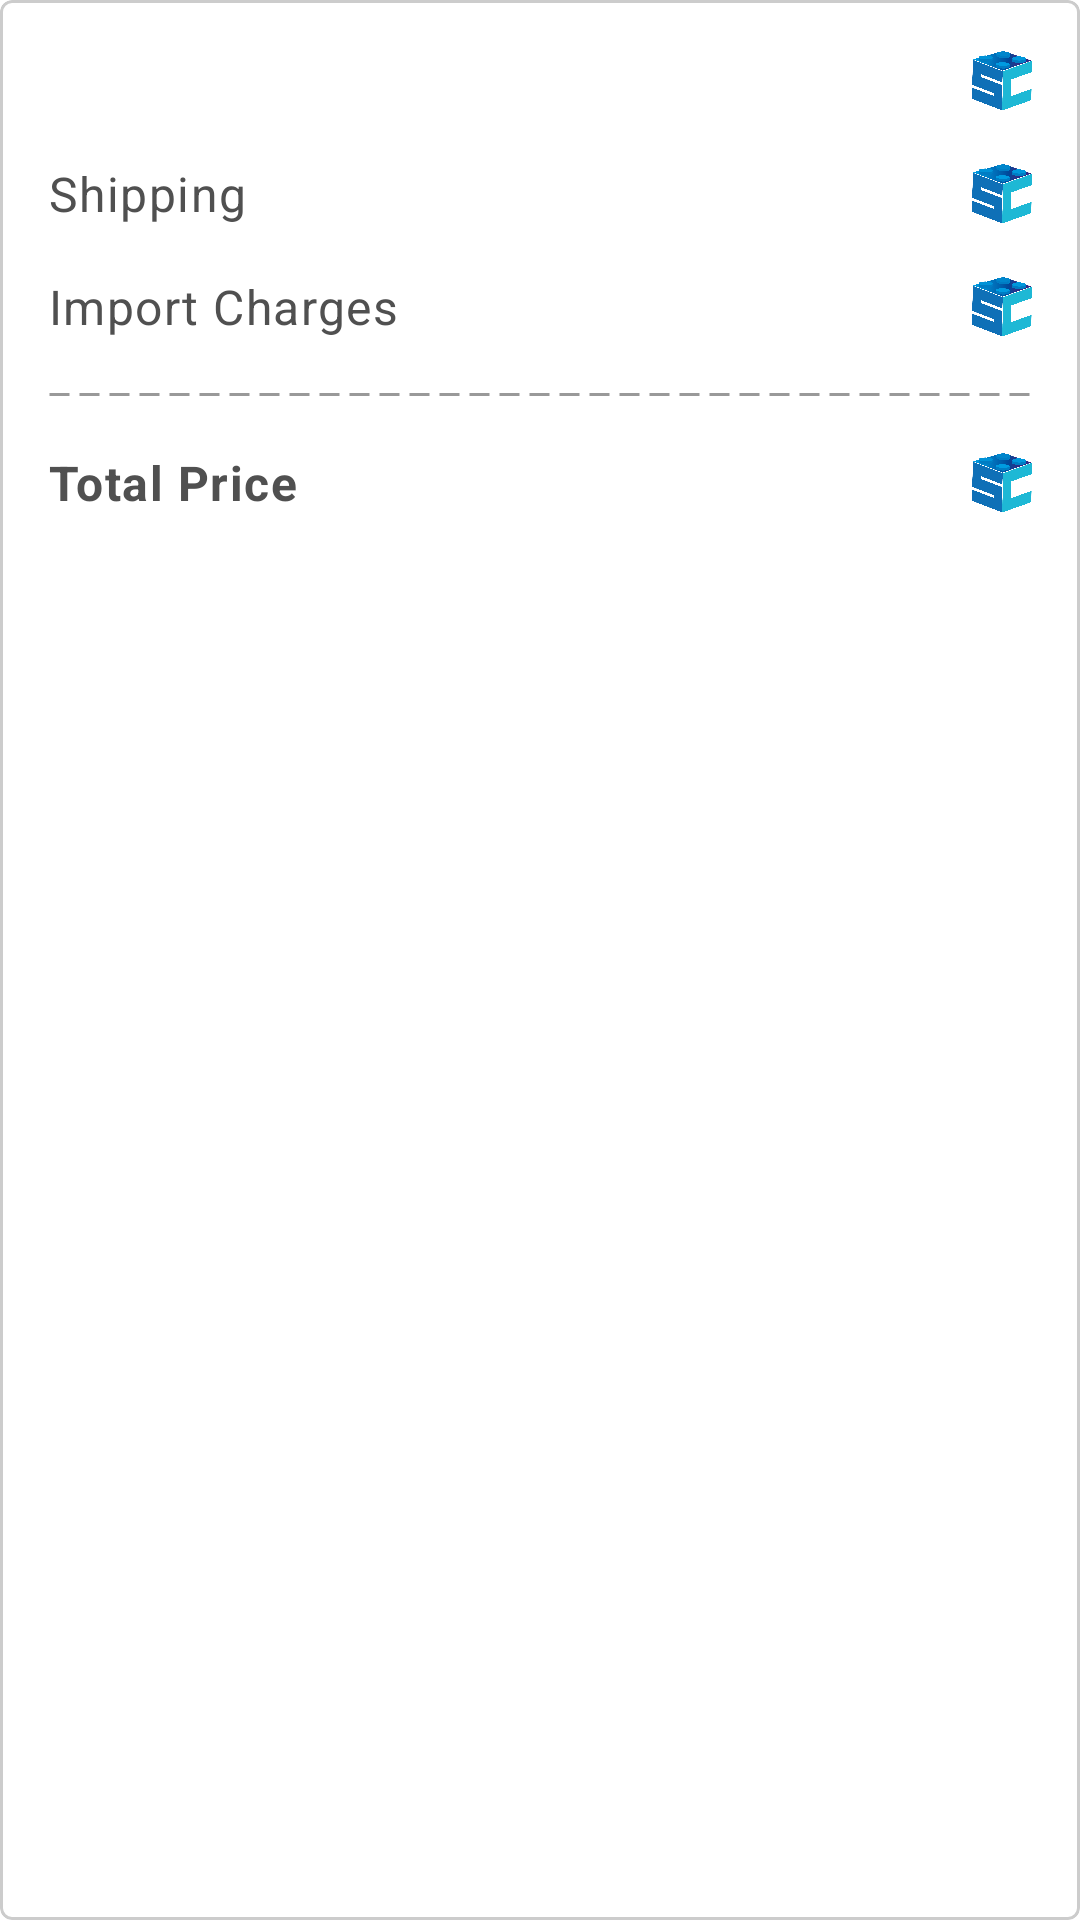

Icon bounding boxes for this 1080*1920 phone screenshot, format (x1, y1, x2, y2):
cube: (972, 51, 1032, 110), (972, 164, 1032, 223), (972, 277, 1032, 336), (972, 453, 1032, 512)
